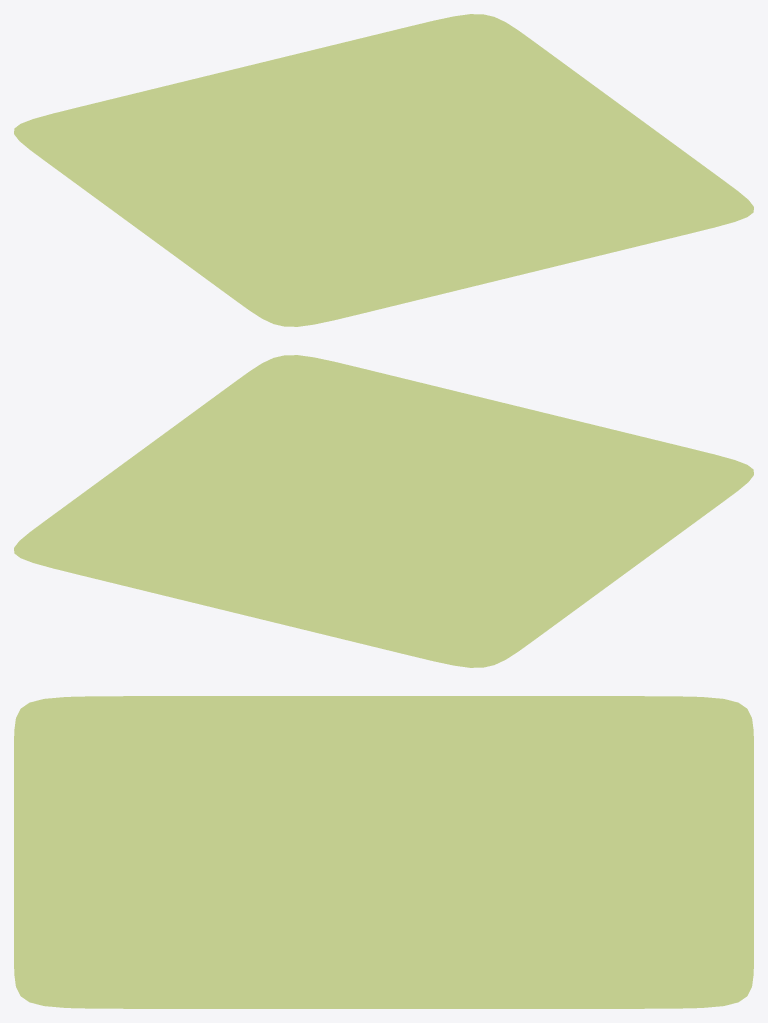
The model's file is plat.glb.
3 renders of one model, top to bottom at view 1: azimuth 30°, elevation 25°; view 2: azimuth 150°, elevation 25°; view 3: azimuth 270°, elevation 25°, orthographic. The views are drawn at different scales.
Visible parts, largest first — view 1: Plane; view 2: Plane; view 3: Plane.
Boxes of the visible parts, x1,y1,x2,y2 form: Plane: (14,14,753,326); Plane: (14,355,753,667); Plane: (14,696,753,1008).
Bounding box in the file's own units: 2 × 0 × 2.
